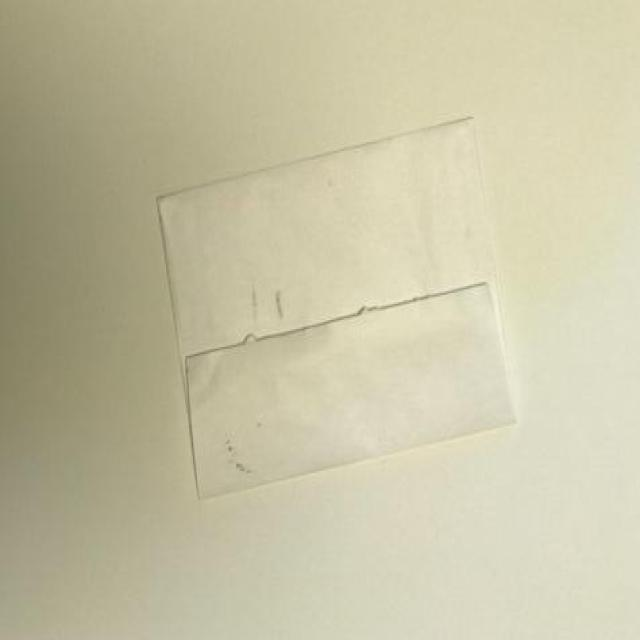kertas: (156, 110, 515, 500)
